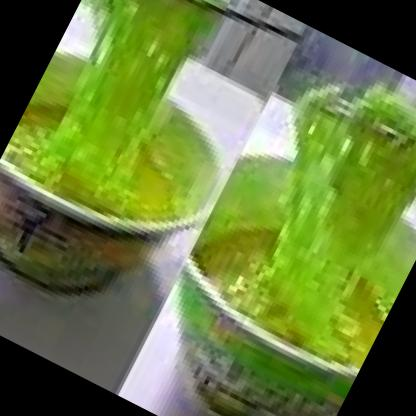Ramen: (129, 141, 416, 416), (0, 36, 251, 343)
